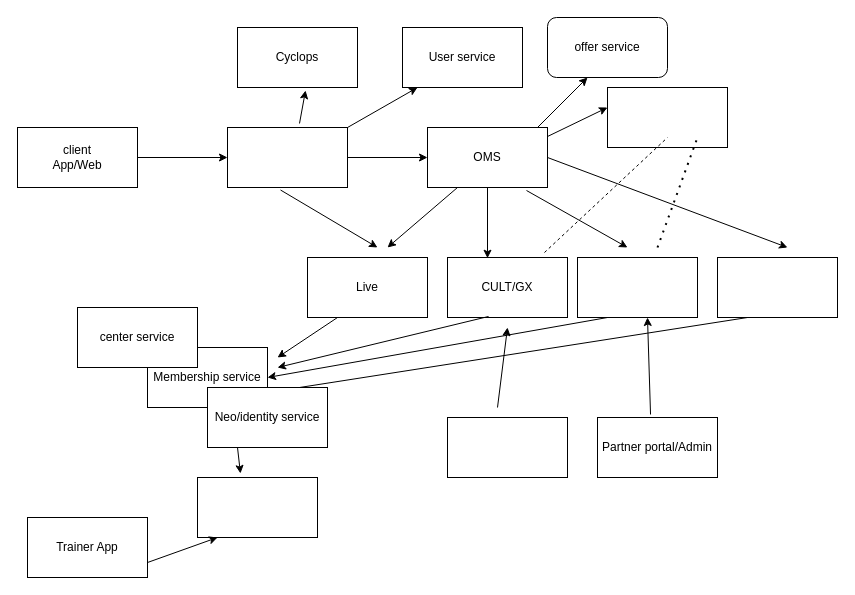
Image size: 855x595. Some labels were removed from this diagram. Each missing label, with the centre of its shape:
"Catalog service" belongs at pixel 667 117.
"Cf-api" belongs at pixel 287 157.
"GYM" belongs at pixel 637 287.
"Kronos/ Admin" belongs at pixel 507 447.
"Trainer services" belongs at pixel 257 507.
"Transform" belongs at pixel 777 287.
